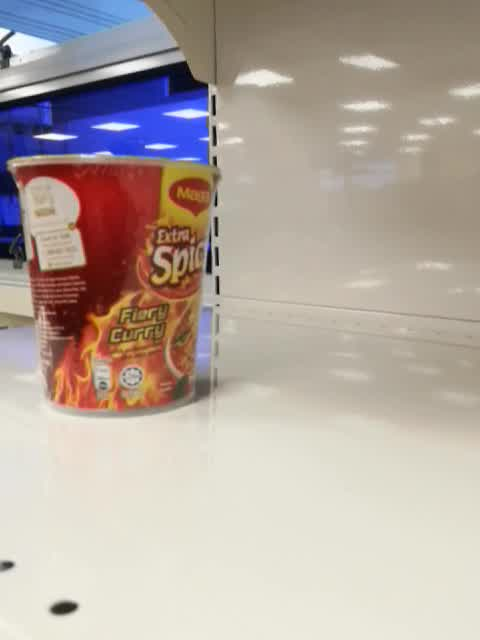maggi: (4, 153, 225, 420)
